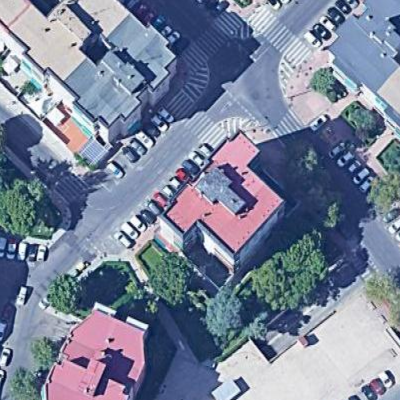tree: (248, 237, 328, 307), (1, 167, 50, 241), (147, 247, 192, 311), (202, 283, 246, 348), (365, 267, 400, 333), (368, 166, 400, 224), (46, 272, 86, 318), (28, 334, 65, 373), (7, 364, 40, 400), (311, 64, 340, 104)
